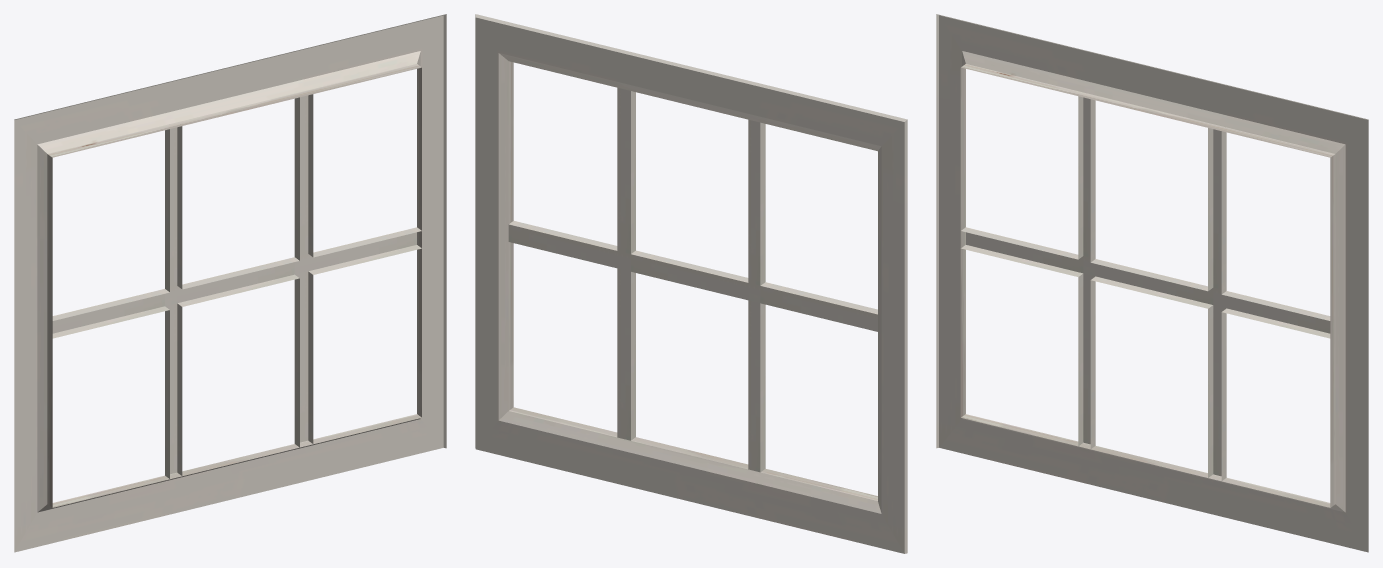
Rendered from VentanaA_H1.obj.
3 views of the same model, side by side, from view 1: azimuth 30°, elevation 25°; view 2: azimuth 150°, elevation 25°; view 3: azimuth 330°, elevation 25° (orthographic).
Visible parts, largest first — view 1: polySurface225; view 2: polySurface225; view 3: polySurface225.
Part boxes in pixels (box(x1,y1,x2,y2)): polySurface225: box(14, 14, 446, 552); polySurface225: box(475, 14, 907, 553); polySurface225: box(936, 14, 1368, 552).
Bounding box in the file's own units: 0.5896 × 0.5658 × 0.0195.
Materials: 1 (1 with a texture image).
